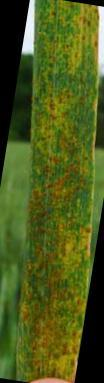Wheat: (37, 7, 77, 369)
